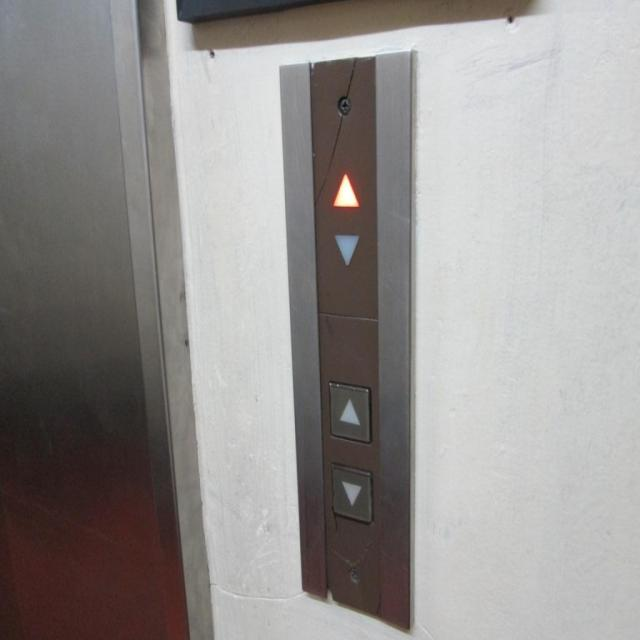down: (328, 455, 374, 526)
up: (324, 373, 372, 446)
